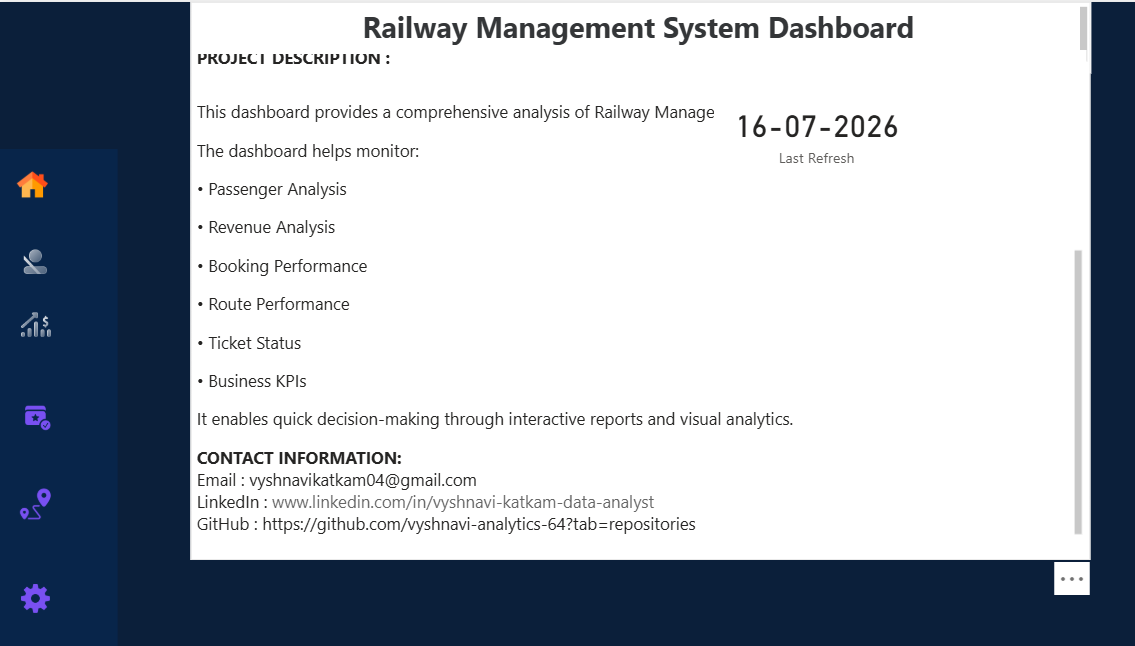

Layout of this report page (visuals, bound fields, positions):
{"tool":"powerbi","page":{"name":"Railway_Management_System Dashboard Project","canvas":[1280,720],"ordinal":0},"visuals":[{"type":"shape","title":"Dashboard Background","box":[0,0,1267.7,720.5],"z":0},{"type":"shape","box":[214.4,0,999.6,620.2],"z":0,"group":"g1"},{"type":"textbox","box":[215.3,0,999.6,79.2],"z":1000,"group":"g1"},{"type":"shape","title":"Sidebar","box":[0,162.5,134.1,556.7],"z":1000},{"type":"textbox","box":[216.3,53.9,993.7,543.1],"z":2000,"group":"g1"},{"type":"image","title":"passenger","box":[20.3,266.2,44.7,44.7],"z":2000},{"type":"card","fields":{"Values":["railway_management_system_final.Last Refresh"]},"box":[796.4,54.9,227.6,180.8],"z":3000,"group":"g1"},{"type":"image","title":"revenu","box":[20.3,337.3,44.7,44.7],"z":3000},{"type":"image","title":"booking","box":[20.3,436.8,44.7,44.7],"z":4000},{"type":"image","title":"route","box":[20.3,534.3,44.7,44.7],"z":5000},{"type":"image","title":"setting","box":[20.3,640,44.7,44.7],"z":6000},{"type":"group","id":"g1","title":"grp_settings","box":[214.4,0,1000.6,620.2],"z":12000},{"type":"image","title":"home","box":[6.1,180.8,65,44.7],"z":13000}]}

Visuals, with their boxes in screenshot pixels (x1, y1, x2, y2):
"Dashboard Background" shape: (0, 0, 1134, 645)
shape: (186, 0, 1092, 559)
textbox: (186, 0, 1093, 69)
"Sidebar" shape: (0, 144, 113, 645)
textbox: (187, 46, 1088, 538)
"passenger" image: (10, 238, 50, 279)
card - railway_management_system_final.Last Refresh: (713, 47, 919, 211)
"revenu" image: (10, 303, 50, 343)
"booking" image: (10, 393, 50, 434)
"route" image: (10, 481, 50, 522)
"setting" image: (10, 577, 50, 618)
"grp_settings" group: (186, 0, 1093, 559)
"home" image: (0, 161, 56, 201)
